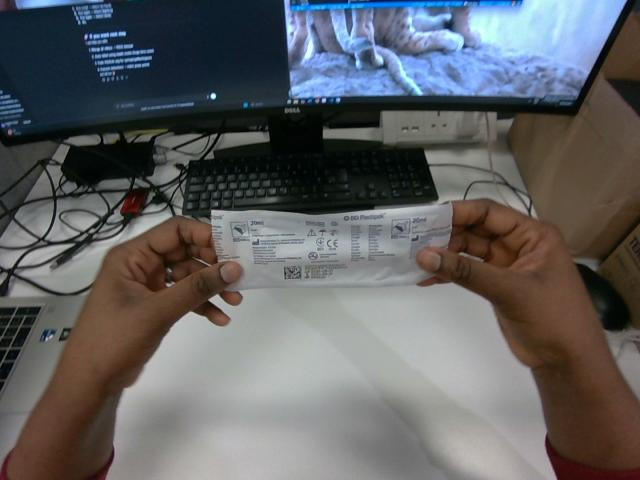syringe: (211, 204, 452, 290)
